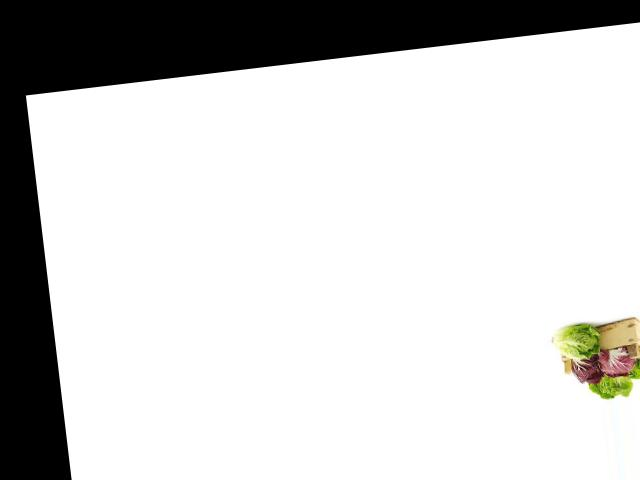lettuce: (587, 366, 634, 401)
